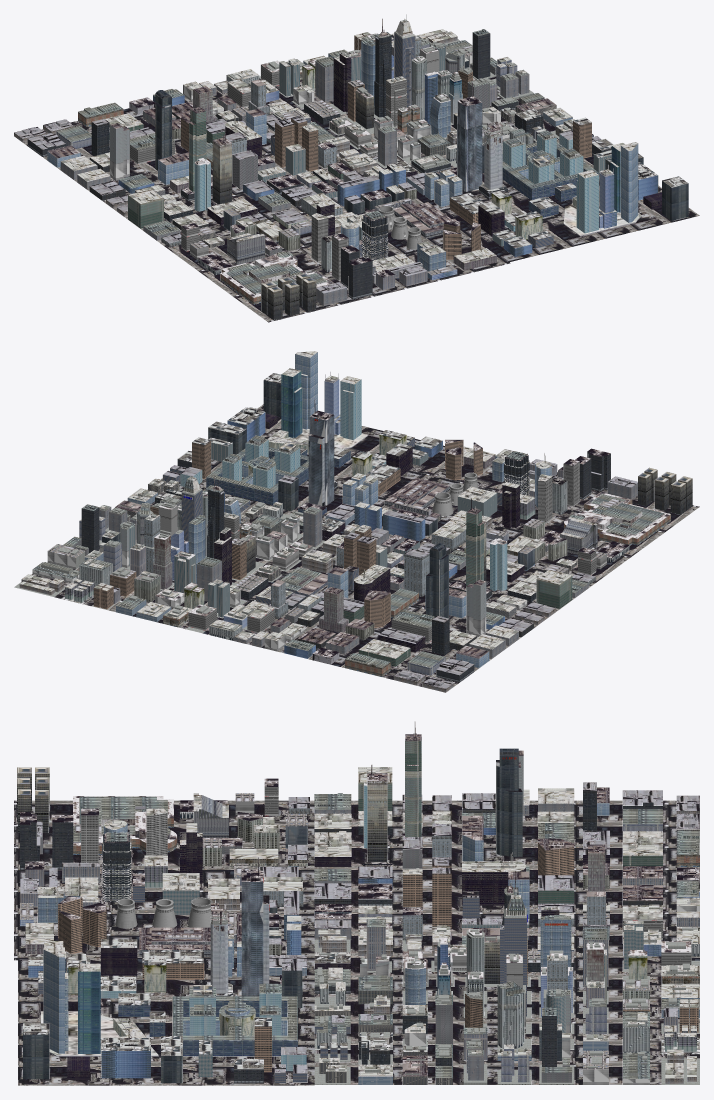
File: city_pack_3.glb
The picture shows the model from 3 angles, top to bottom: view 1: azimuth 30°, elevation 25°; view 2: azimuth 150°, elevation 25°; view 3: azimuth 270°, elevation 25°; orthographic projection. The views are drawn at different scales.
Visible parts, largest first — view 1: Material3 (×45), Material2 (×3); view 2: Material3 (×45), Material2 (×3); view 3: Material3 (×50), Material2 (×3).
Part boxes in pixels (x1,y1,x2,y2): Material3 (×45): (14, 14, 699, 322); Material2 (×3): (22, 19, 685, 310); Material3 (×45): (14, 351, 699, 692); Material2 (×3): (17, 373, 690, 686); Material3 (×50): (14, 721, 699, 1085); Material2 (×3): (17, 721, 699, 1076).
Bounding box in the file's own units: 13.32 × 3 × 13.56.
Materials: 64 (59 with a texture image).
